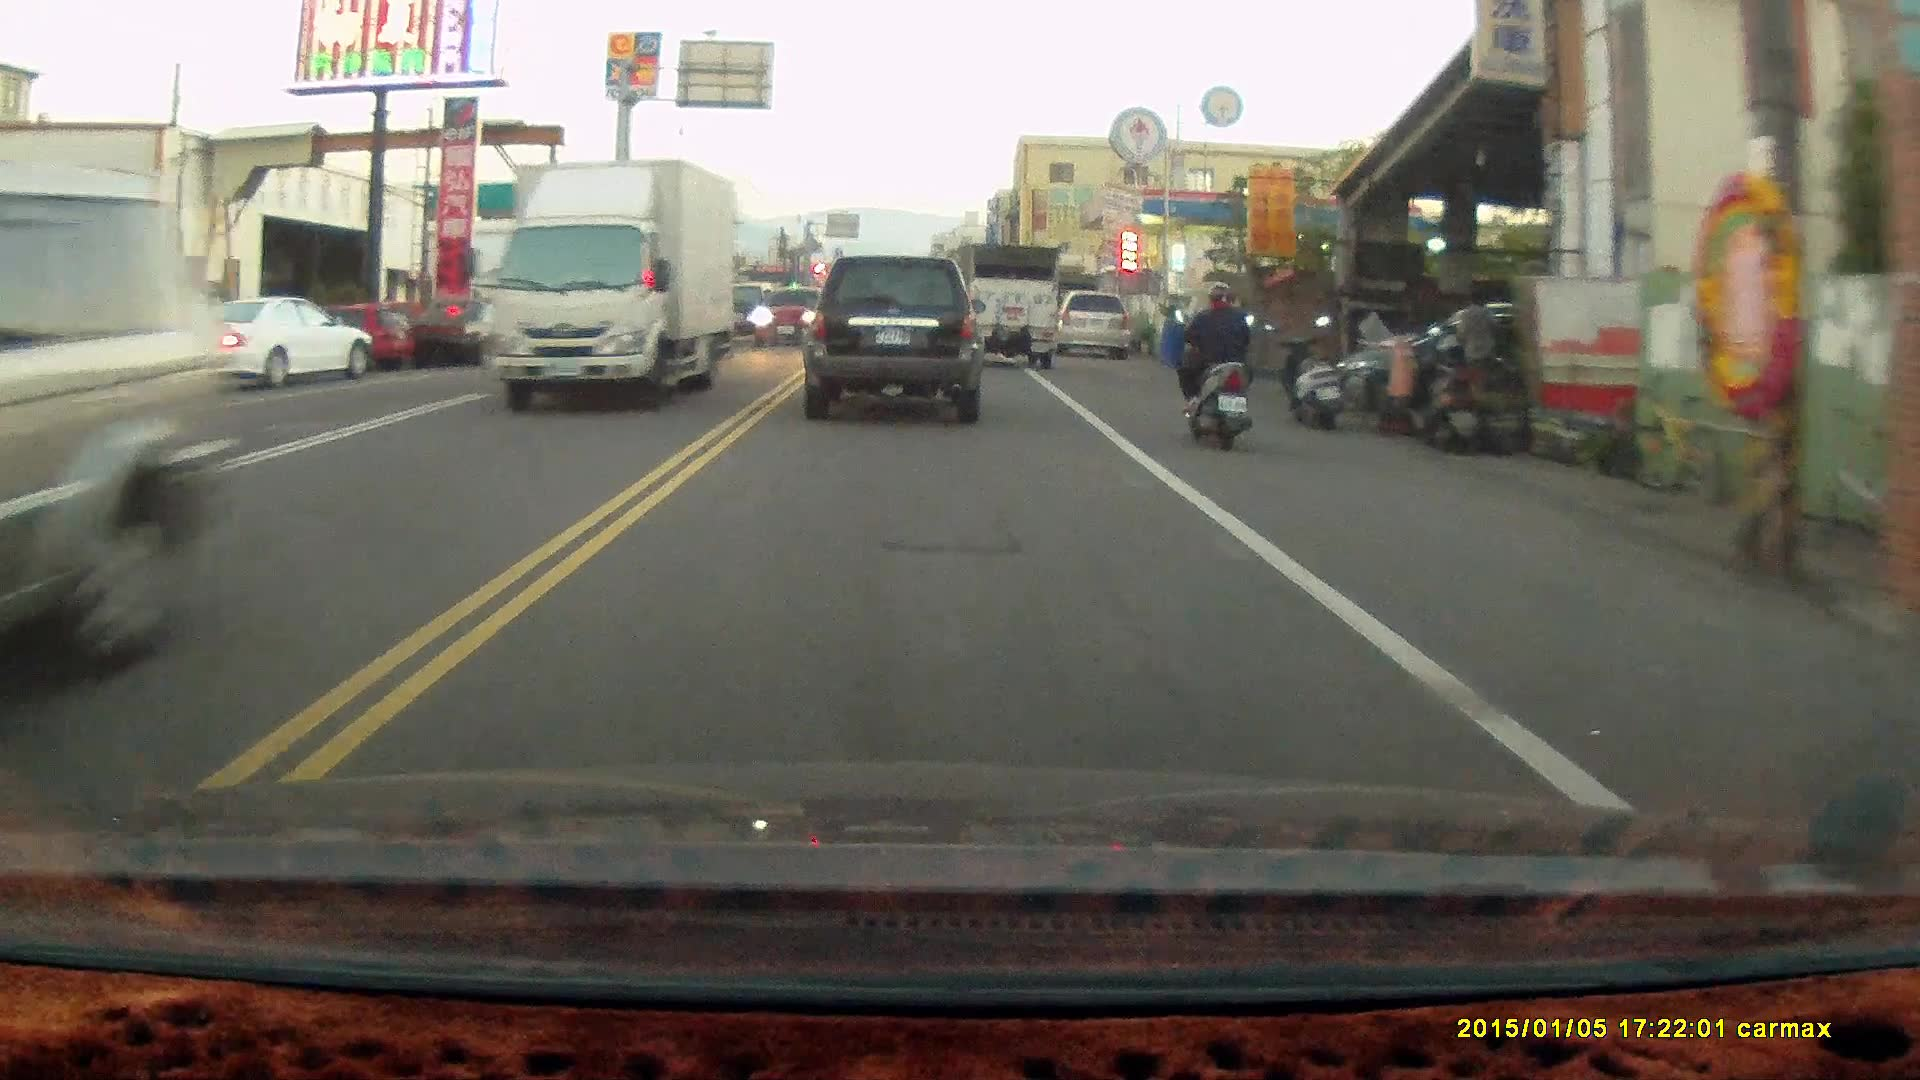pedestrian: (1453, 285, 1502, 417)
rider: (1171, 278, 1257, 452)
vehicle: (1, 165, 251, 712), (491, 151, 743, 413), (799, 249, 986, 422), (162, 299, 385, 399), (968, 237, 1061, 365), (1055, 285, 1132, 357)
